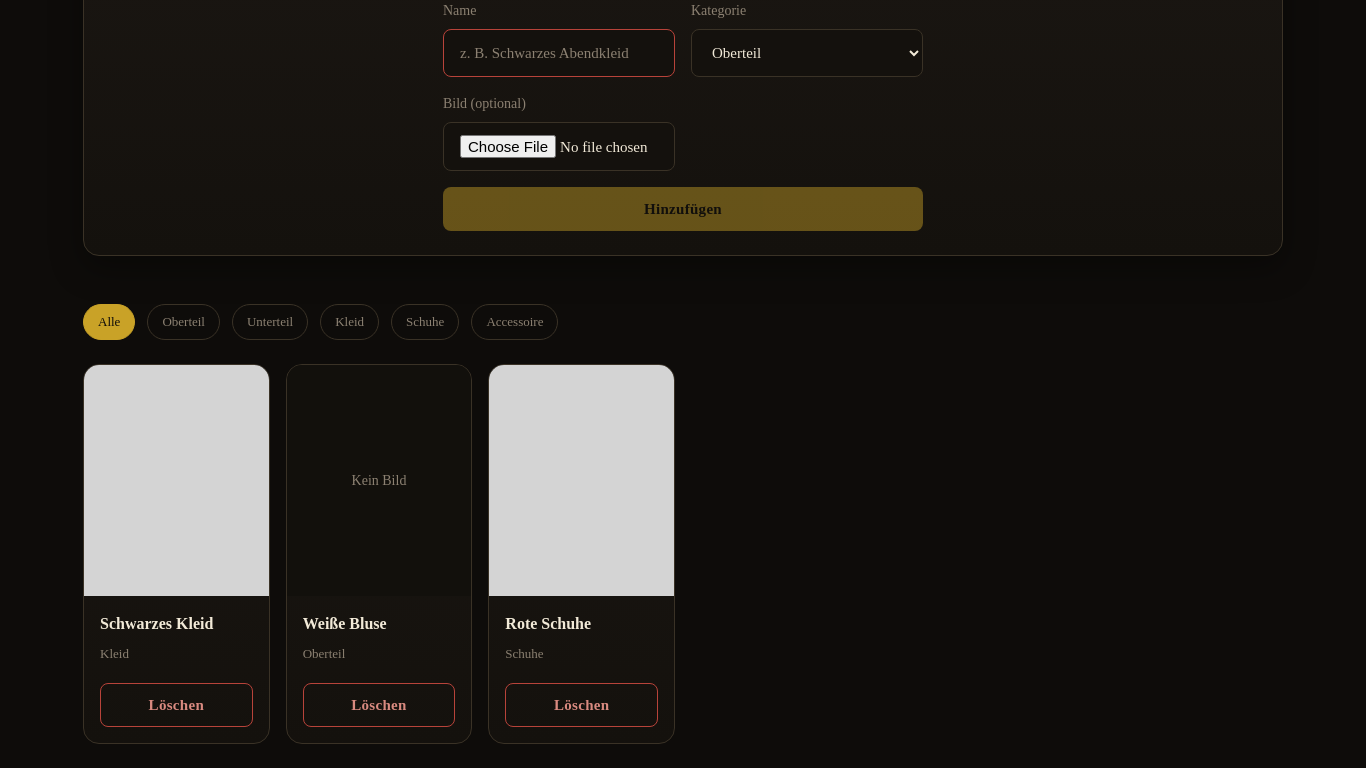
Wardrobe › löscht ein Kleidungsstück und entfernt es aus der Liste
The width and height of the screenshot is (1366, 768).
(page scrolled)
expect the heading "Schwarzes Kleid" is shown: met, box [100,615,213,632]
Click the button "Löschen" below "Schwarzes Kleid": click(176, 705) [100,683,253,727]
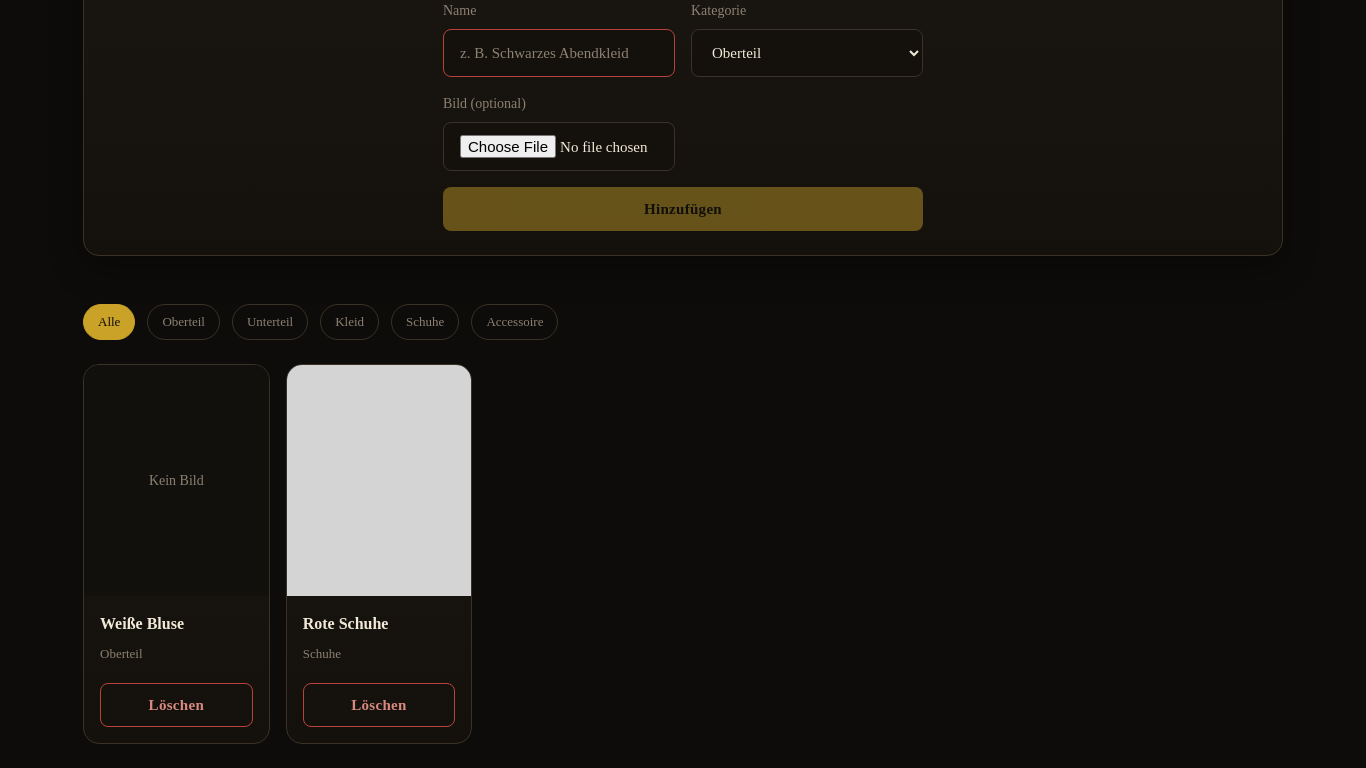
expect the heading "Weiße Bluse" is shown: met, box [100,615,184,632]
expect the heading "Schwarzes Kleid" is gone: met
